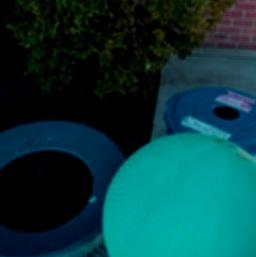algae: (100, 129, 256, 257)
